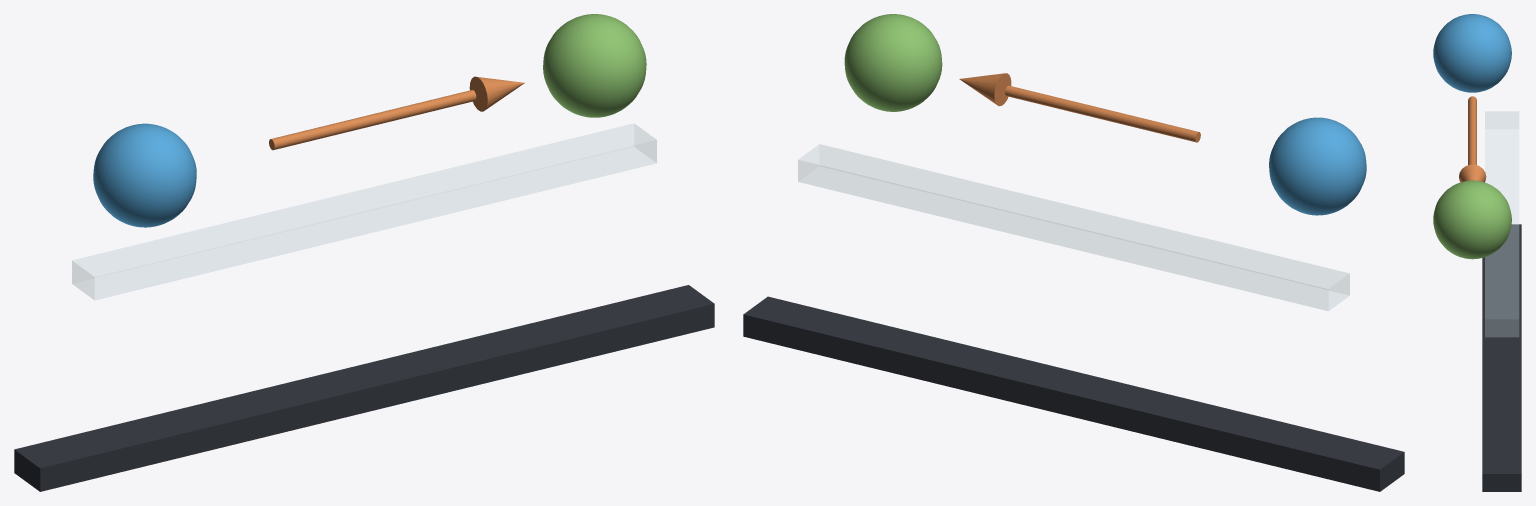
The model's file is chem-stoich-balanced-ratio.glb.
The picture shows the model from 3 angles, left to right: view 1: azimuth 30°, elevation 25°; view 2: azimuth 150°, elevation 25°; view 3: azimuth 270°, elevation 25°; orthographic projection. The views are drawn at different scales.
Parts seen in each view (by area): view 1: stoichiometry-bench, balanced-equation-rail, reactant-coefficient-two, product-coefficient-two, reaction-arrow-ratio-shaft, reaction-arrow-ratio-head; view 2: stoichiometry-bench, balanced-equation-rail, reactant-coefficient-two, product-coefficient-two, reaction-arrow-ratio-shaft, reaction-arrow-ratio-head; view 3: stoichiometry-bench, balanced-equation-rail, product-coefficient-two, reactant-coefficient-two, reaction-arrow-ratio-shaft, reaction-arrow-ratio-head.
Boxes of the visible parts, x1=… form: stoichiometry-bench: x1=14, y1=285, x2=714, y2=491; balanced-equation-rail: x1=72, y1=123, x2=656, y2=299; reactant-coefficient-two: x1=93, y1=123, x2=196, y2=227; product-coefficient-two: x1=543, y1=14, x2=646, y2=117; reaction-arrow-ratio-shaft: x1=269, y1=90, x2=476, y2=150; reaction-arrow-ratio-head: x1=469, y1=76, x2=524, y2=111; stoichiometry-bench: x1=743, y1=296, x2=1404, y2=491; balanced-equation-rail: x1=798, y1=144, x2=1349, y2=310; reactant-coefficient-two: x1=1269, y1=117, x2=1366, y2=215; product-coefficient-two: x1=844, y1=14, x2=942, y2=111; reaction-arrow-ratio-shaft: x1=1005, y1=85, x2=1200, y2=142; reaction-arrow-ratio-head: x1=959, y1=73, x2=1011, y2=106; stoichiometry-bench: x1=1482, y1=224, x2=1521, y2=491; balanced-equation-rail: x1=1485, y1=111, x2=1518, y2=336; product-coefficient-two: x1=1433, y1=180, x2=1511, y2=259; reactant-coefficient-two: x1=1433, y1=14, x2=1511, y2=92; reaction-arrow-ratio-shaft: x1=1468, y1=96, x2=1476, y2=165; reaction-arrow-ratio-head: x1=1459, y1=164, x2=1486, y2=182.
Size of what is drawn, in the model's own units: 2.4 by 1.17 by 0.36.
